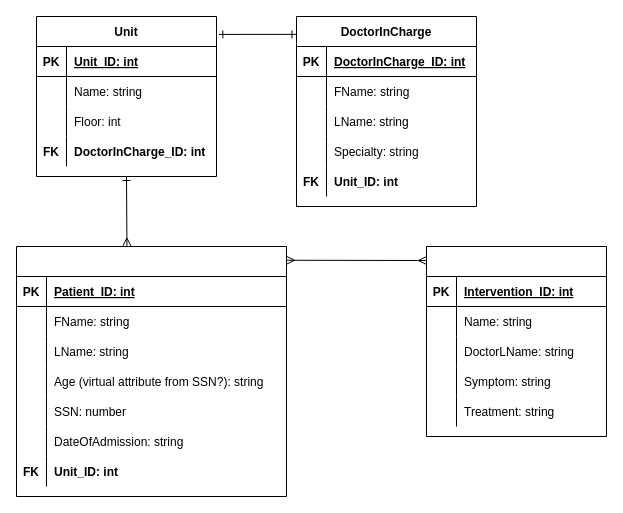
Image size: 623x513. Some labels were removed from this diagram. The box of each missing label's shape, as (x1, y1, x2, y2) in pixels:
Interventions: (426, 246, 606, 436)
Patients: (16, 246, 286, 496)
